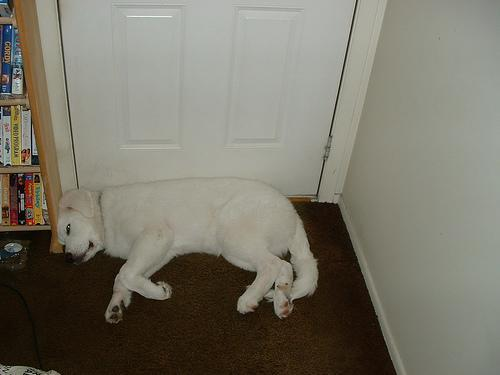Great_Pyrenees: (56, 176, 320, 325)
